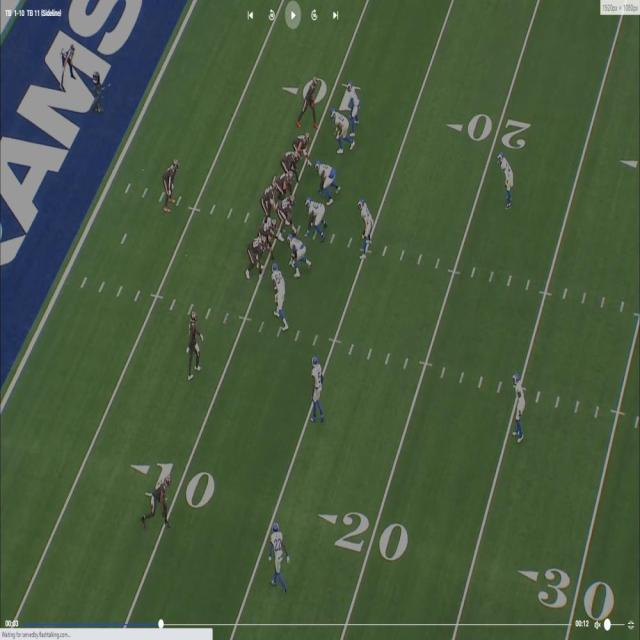center: (278, 195, 295, 233)
db: (272, 518, 288, 586), (514, 372, 527, 442), (310, 356, 323, 418), (502, 154, 516, 206), (348, 86, 363, 132)
lb: (331, 111, 354, 151), (358, 199, 372, 256), (275, 266, 287, 326)
qb: (260, 175, 277, 218)
skill: (146, 475, 172, 530), (162, 158, 177, 213), (292, 131, 313, 168), (300, 78, 318, 116), (190, 313, 198, 381)
